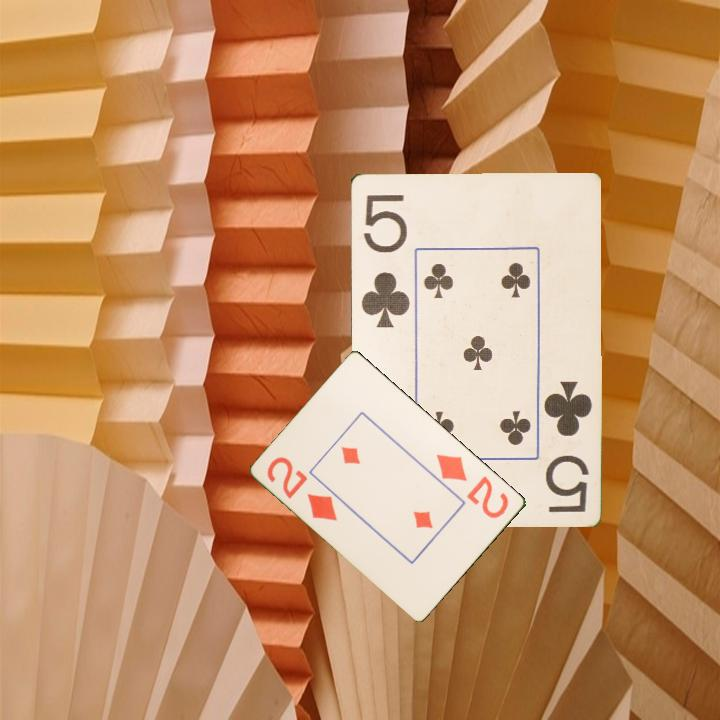2d: (433, 450, 512, 521), (263, 453, 341, 524)
5c: (357, 191, 412, 331), (540, 376, 595, 515)
